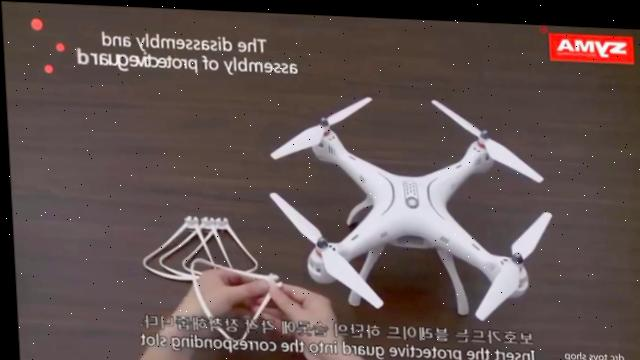drone: (262, 87, 554, 325)
